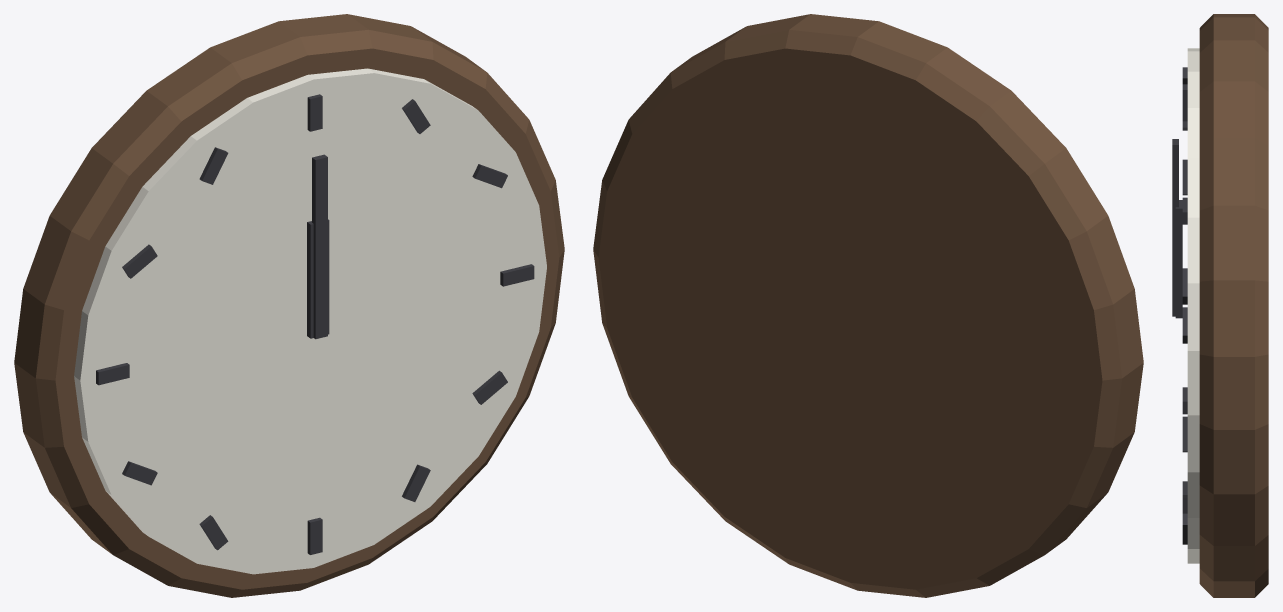
Rendered from wall_clock.fbx.
3 views of the same model, side by side, from view 1: azimuth 30°, elevation 25°; view 2: azimuth 150°, elevation 25°; view 3: azimuth 270°, elevation 25° (orthographic). The views are drawn at different scales.
Visible parts, largest first — view 1: Body, Hand_M, Hand_H; view 2: Body; view 3: Body, Hand_H, Hand_M.
Boxes of the visible parts, box(x1,y1,x2,y2) form: Body: box(14, 14, 564, 597); Hand_M: box(312, 154, 327, 339); Hand_H: box(307, 219, 329, 338); Body: box(593, 14, 1143, 597); Body: box(1182, 14, 1268, 597); Hand_H: box(1175, 200, 1182, 318); Hand_M: box(1172, 139, 1178, 316).
Bounding box in the file's own units: 0.34 × 0.34 × 0.056.
